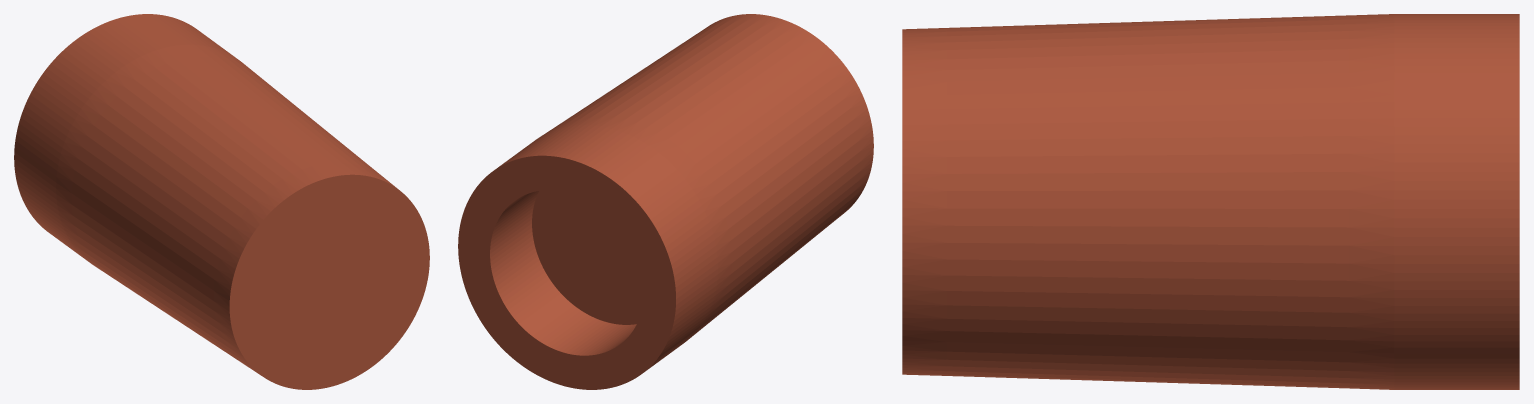
The picture shows the model from 3 angles, left to right: view 1: azimuth 30°, elevation 25°; view 2: azimuth 150°, elevation 25°; view 3: azimuth 270°, elevation 25°; orthographic projection. The views are drawn at different scales.
Parts seen in each view (by area): view 1: node; view 2: node; view 3: node.
Boxes of the visible parts, bbox=[...] form: node: bbox=[14, 14, 429, 389]; node: bbox=[458, 14, 873, 389]; node: bbox=[902, 14, 1519, 389].
Bounding box in the file's own units: 0.0765 × 0.0764 × 0.1255.
